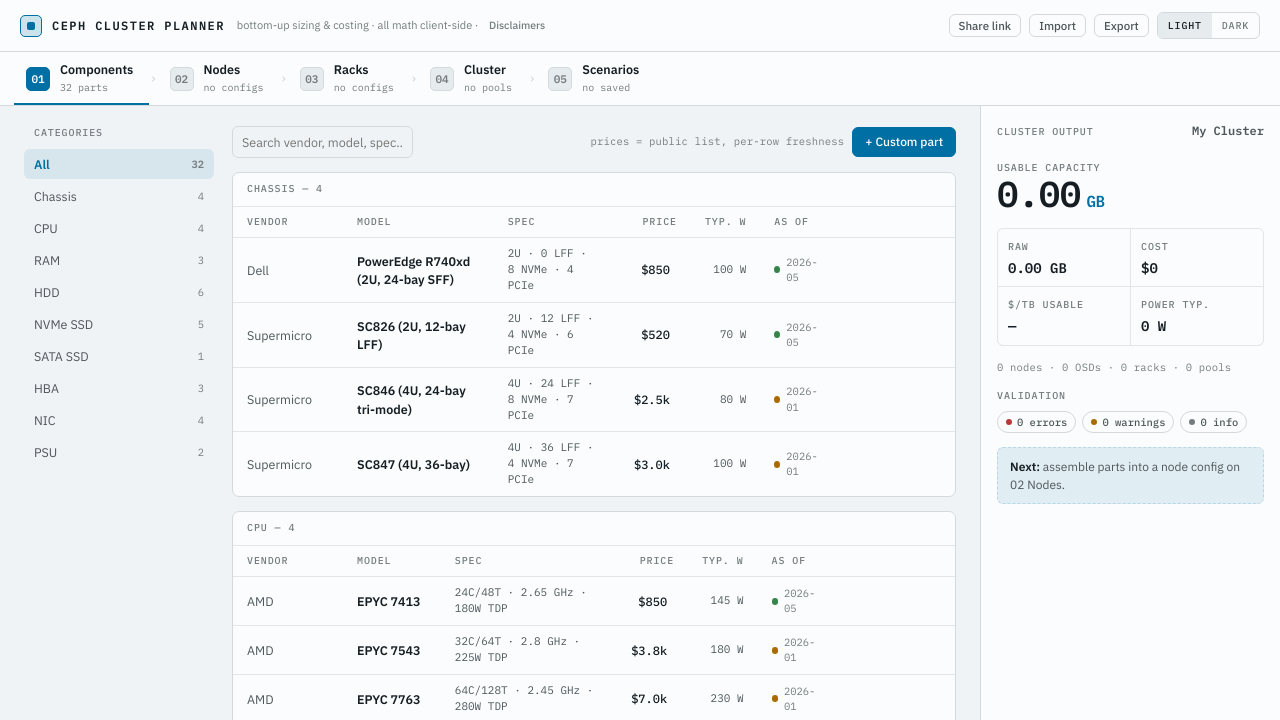
Test: Pipeline navigation › clicking a stepper button switches screens and mirrors the tab in the hash
Click 02 Nodes.
Step 1. Click the text "Nodes" → [222, 69], box [204,61,240,77]
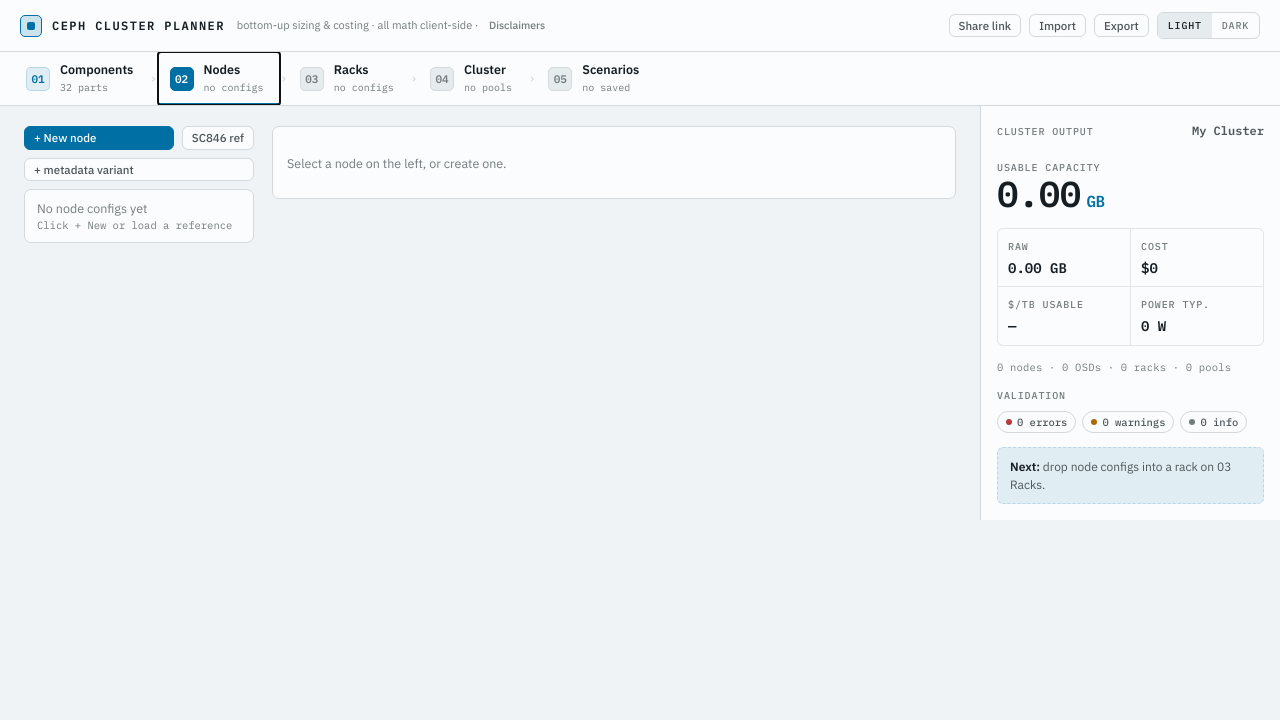
Expected: the text "No node configs yet" is shown, [37,200,147,216]
Click 04 Cluster.
Step 2. Click the text "Cluster" → [488, 70], box [464,62,512,77]
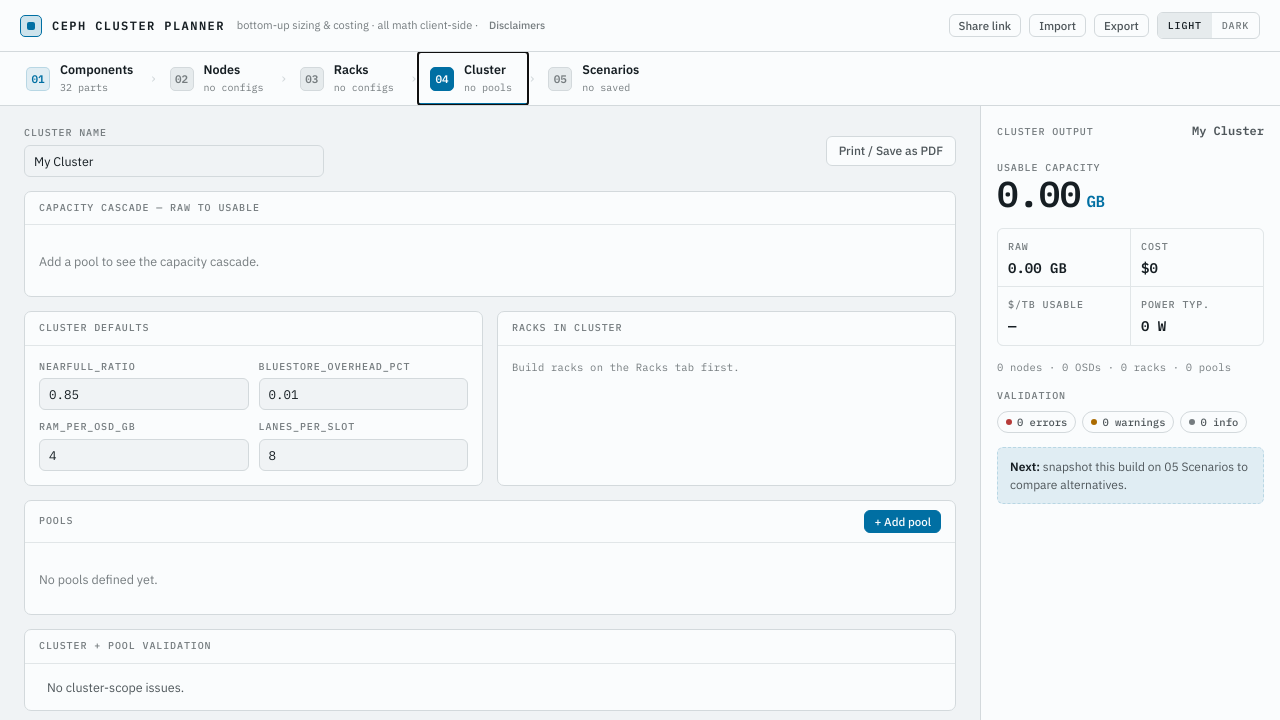
Expected: the text "Capacity cascade — raw to usable" is shown, [39,200,260,215]
